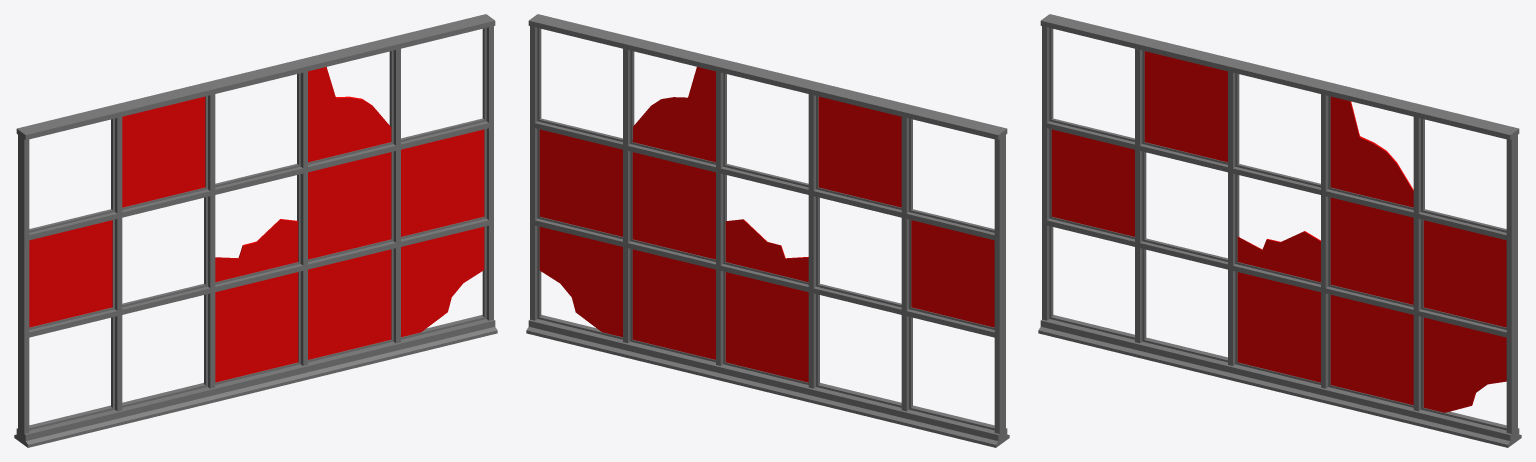
The model's file is Window02_Broken01.fbx.
3 views of the same model, side by side, from view 1: azimuth 30°, elevation 25°; view 2: azimuth 150°, elevation 25°; view 3: azimuth 330°, elevation 25° (orthographic).
Visible parts, largest first — view 1: Window02_Broken01; view 2: Window02_Broken01; view 3: Window02_Broken01.
Part boxes in pixels (<box>): Window02_Broken01: <box>14,14,497,447</box>; Window02_Broken01: <box>526,14,1009,447</box>; Window02_Broken01: <box>1038,14,1521,447</box>.
Bounding box in the file's own units: 240 × 152 × 12.
